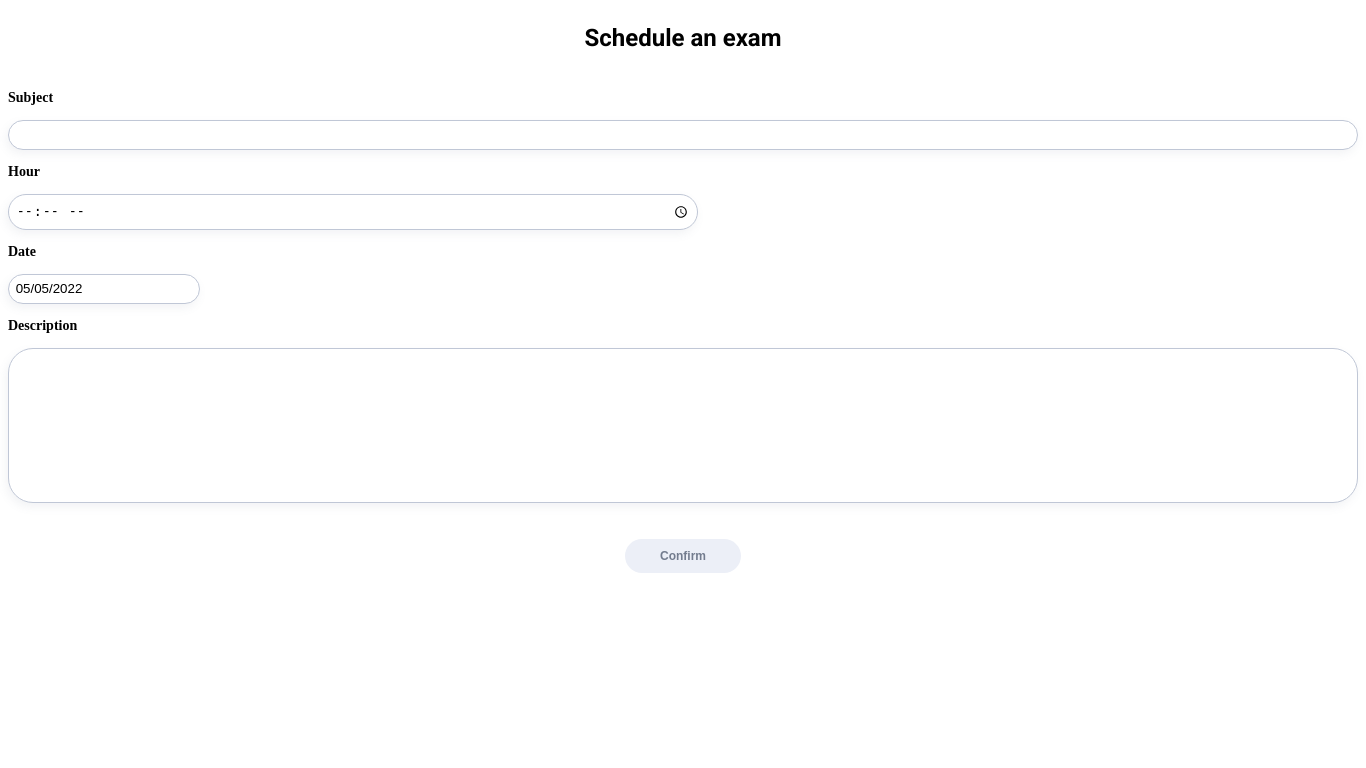
Test case: ClassForm › displays hour error
This screenshot has width=1366, height=768.
Click the button "Confirm" at [683, 556], box [625,539,741,573]
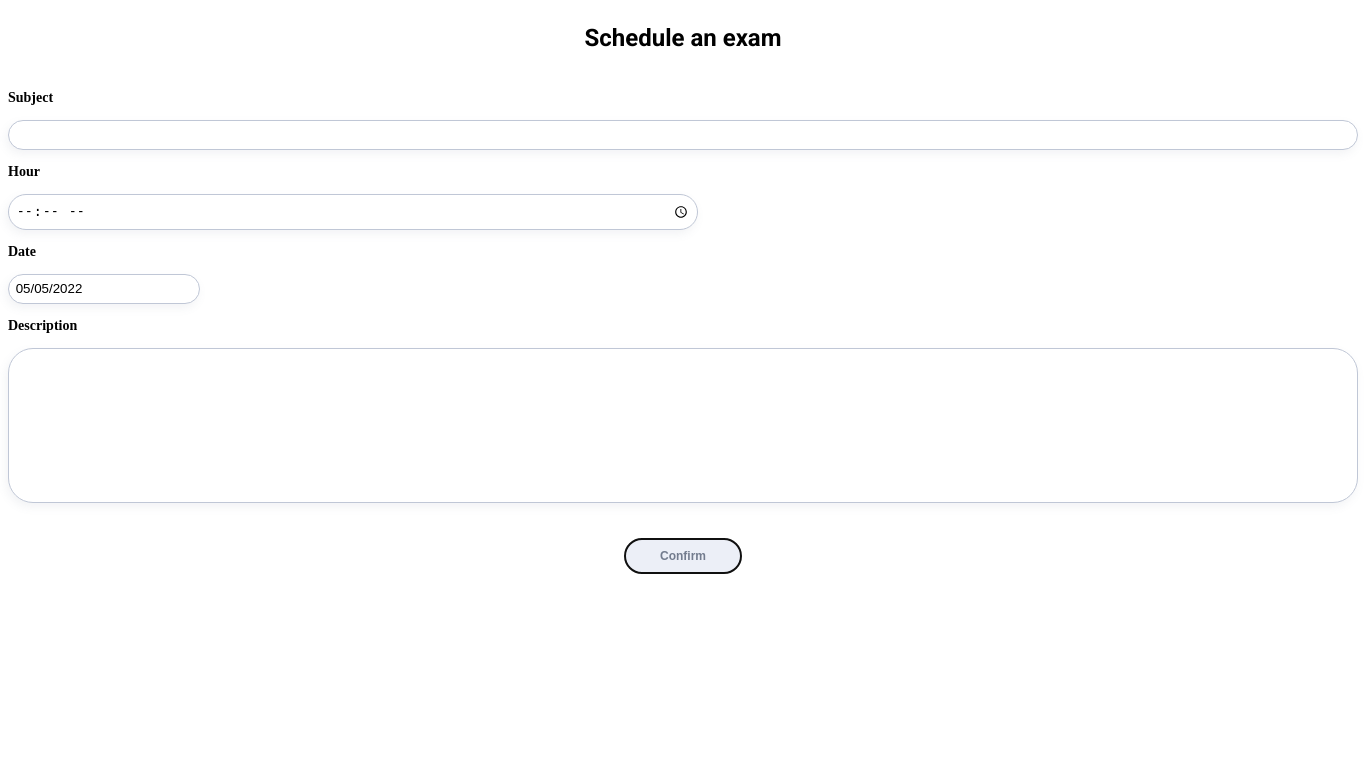
Type "Evolution" into the text box labelled "Description" at [683, 426], box [8,348,1358,503]
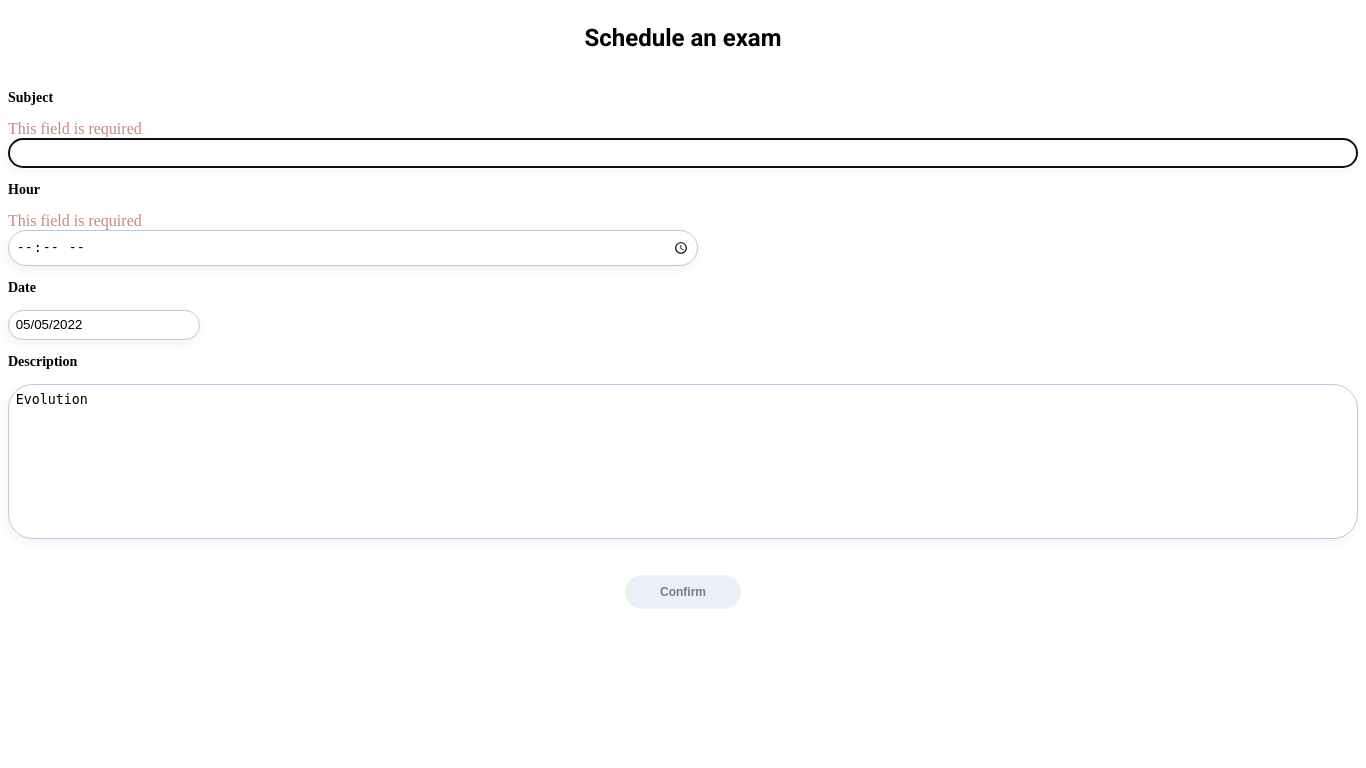
Check: the text "This field is required" is shown 2 times, box [8,120,142,137]; [8,212,142,229]
